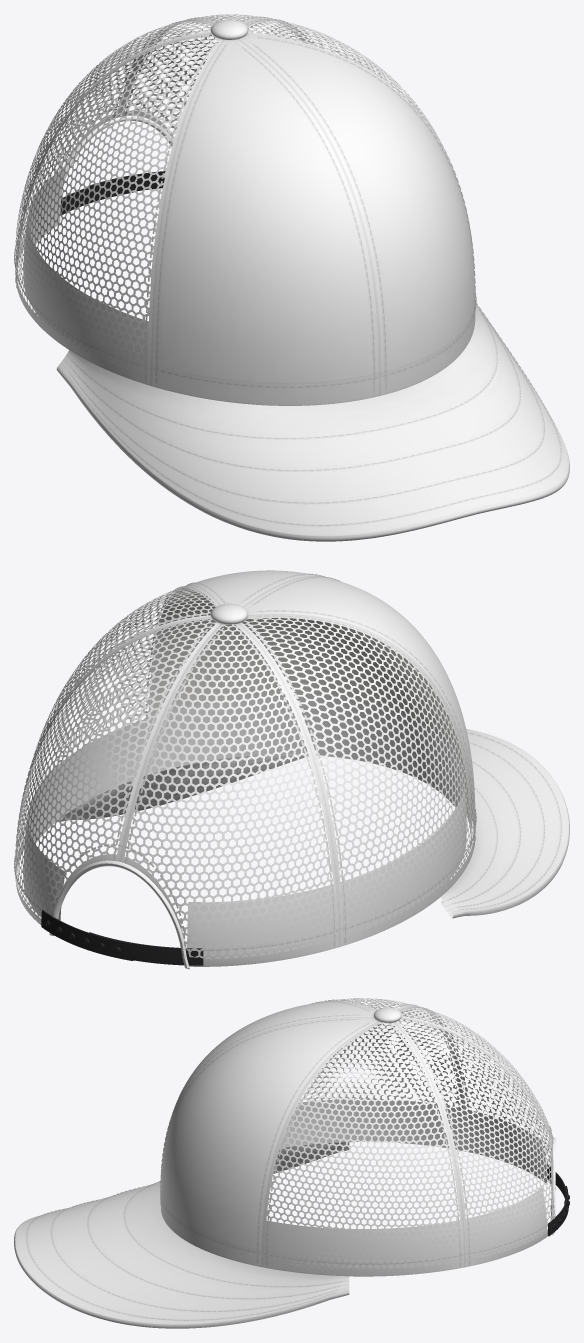
The model's file is americano-tela.glb.
3 views of the same model, one above another, from view 1: azimuth 30°, elevation 25°; view 2: azimuth 150°, elevation 25°; view 3: azimuth 270°, elevation 25° (orthographic). The views are drawn at different scales.
Visible parts, largest first — view 1: frente, aba, laterais, traseira, fixo__suador, costura-aba, aba-sanduiche, costura-frente, costura-laterais, fixo__regulador, costura-traseira; view 2: traseira, laterais, fixo__suador, fixo__forro, aba, frente, aba-baixo, fixo__regulador, costura-traseira, costura-laterais, costura-aba, traseira__vies (+4 smaller); view 3: frente, laterais, aba, fixo__suador, traseira, costura-aba, aba-sanduiche, costura-frente, costura-laterais, costura-traseira, aba-baixo, fixo__regulador.
Boxes of the visible parts, x1=… form: frente: x1=151, y1=34, x2=475, y2=405; aba: x1=58, y1=306, x2=568, y2=536; laterais: x1=17, y1=19, x2=465, y2=385; traseira: x1=15, y1=14, x2=304, y2=282; fixo__suador: x1=23, y1=170, x2=148, y2=374; costura-aba: x1=68, y1=302, x2=561, y2=526; aba-sanduiche: x1=56, y1=366, x2=569, y2=541; costura-frente: x1=154, y1=37, x2=476, y2=391; costura-laterais: x1=16, y1=19, x2=473, y2=379; fixo__regulador: x1=60, y1=171, x2=165, y2=214; costura-traseira: x1=14, y1=16, x2=298, y2=282; traseira: x1=15, y1=617, x2=339, y2=966; laterais: x1=17, y1=585, x2=473, y2=946; fixo__suador: x1=23, y1=696, x2=466, y2=959; fixo__forro: x1=153, y1=588, x2=471, y2=845; aba: x1=65, y1=729, x2=568, y2=912; frente: x1=152, y1=570, x2=475, y2=847; aba-baixo: x1=58, y1=754, x2=473, y2=917; fixo__regulador: x1=41, y1=910, x2=203, y2=965; costura-traseira: x1=14, y1=618, x2=337, y2=951; costura-laterais: x1=16, y1=586, x2=474, y2=942; costura-aba: x1=448, y1=732, x2=561, y2=910; traseira__vies: x1=49, y1=860, x2=189, y2=969; frente: x1=161, y1=1001, x2=378, y2=1266; laterais: x1=262, y1=998, x2=464, y2=1276; aba: x1=15, y1=1142, x2=349, y2=1324; fixo__suador: x1=265, y1=1099, x2=547, y2=1269; traseira: x1=394, y1=1006, x2=553, y2=1267; costura-aba: x1=26, y1=1181, x2=342, y2=1320; aba-sanduiche: x1=14, y1=1228, x2=349, y2=1328; costura-frente: x1=160, y1=1001, x2=369, y2=1262; costura-laterais: x1=264, y1=999, x2=462, y2=1266; costura-traseira: x1=397, y1=1007, x2=554, y2=1264; aba-baixo: x1=273, y1=1143, x2=349, y2=1173; fixo__regulador: x1=546, y1=1165, x2=569, y2=1236.
Size of the model in its own units: 1.7 by 1.39 by 2.75.
10 materials, 6 textured.
